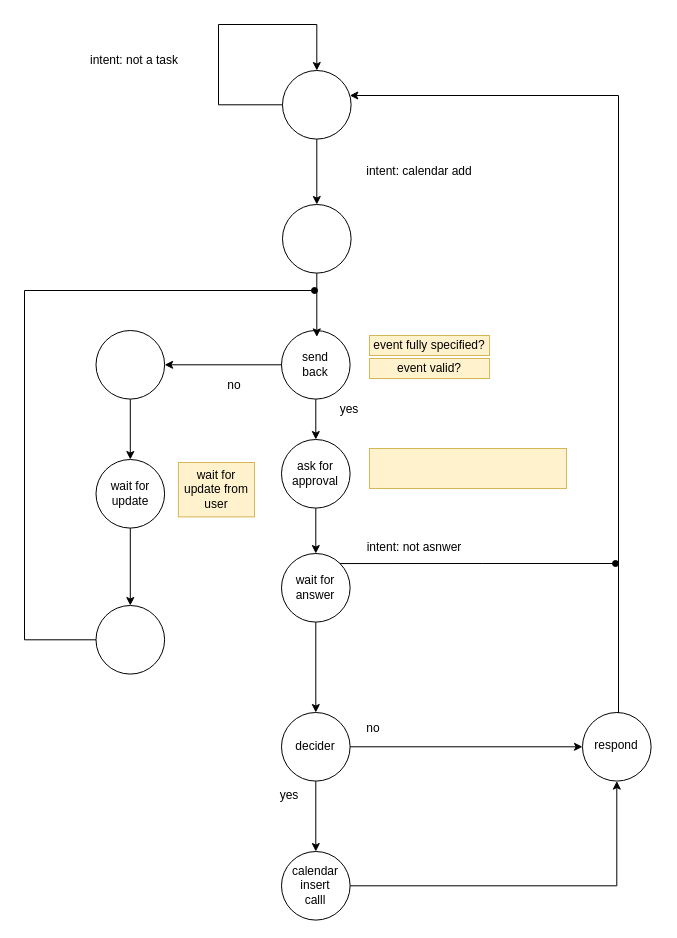
This 677x938 diagram has some shape labels left out. The shapes that lost their labels are listed below. From the top down, each one's box as (x1, y1, x2, y2) in pixels, then its label:
(282, 70, 351, 139): idle
(282, 204, 351, 273): calendar Add
(95, 330, 165, 399): ask for update
(368, 448, 566, 488): is the event specified the way the user wants?
(95, 604, 165, 674): update
